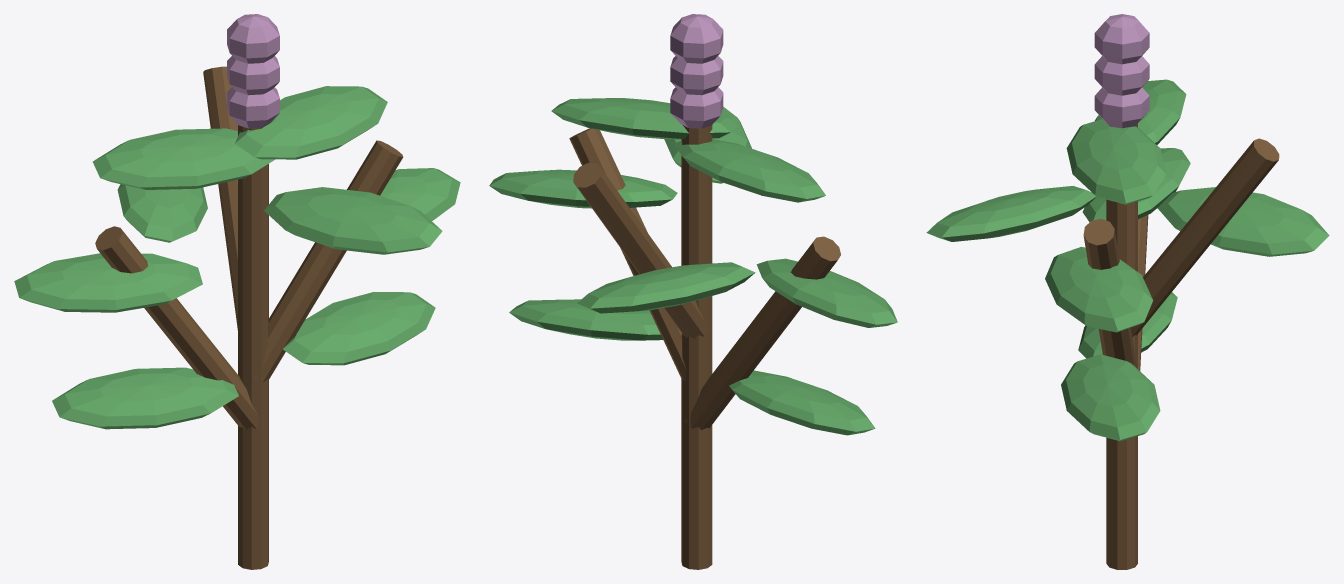
Rendered from tulsi.glb.
The picture shows the model from 3 angles, left to right: view 1: azimuth 30°, elevation 25°; view 2: azimuth 150°, elevation 25°; view 3: azimuth 270°, elevation 25°; orthographic projection.
Parts seen in each view (by area): view 1: Tulsi_Stem_0, Tulsi_Leaf_0, Tulsi_Leaf_5, Tulsi_Leaf_2, Tulsi_Leaf_6, Tulsi_Leaf_1, Tulsi_Leaf_7, Tulsi_Stem_2, Tulsi_Stem_1, Tulsi_Leaf_4, Tulsi_Stem_3, Tulsi_Leaf_3 (+3 smaller); view 2: Tulsi_Stem_0, Tulsi_Stem_1, Tulsi_Leaf_4, Tulsi_Leaf_6, Tulsi_Leaf_0, Tulsi_Stem_3, Tulsi_Leaf_2, Tulsi_Leaf_7, Tulsi_Leaf_1, Tulsi_Leaf_3, Tulsi_Stem_2, Tulsi_Flower_2 (+3 smaller); view 3: Tulsi_Stem_3, Tulsi_Leaf_1, Tulsi_Leaf_4, Tulsi_Leaf_7, Tulsi_Leaf_3, Tulsi_Stem_0, Tulsi_Leaf_5, Tulsi_Stem_2, Tulsi_Flower_2, Tulsi_Leaf_6, Tulsi_Leaf_2, Tulsi_Flower_0 (+3 smaller).
Boxes of the visible parts, x1=… form: Tulsi_Stem_0: x1=238, y1=125, x2=268, y2=569; Tulsi_Leaf_0: x1=52, y1=367, x2=238, y2=429; Tulsi_Leaf_5: x1=264, y1=187, x2=442, y2=254; Tulsi_Leaf_2: x1=14, y1=253, x2=202, y2=312; Tulsi_Leaf_6: x1=92, y1=128, x2=275, y2=189; Tulsi_Leaf_1: x1=283, y1=292, x2=435, y2=365; Tulsi_Leaf_7: x1=235, y1=86, x2=387, y2=159; Tulsi_Stem_2: x1=254, y1=140, x2=403, y2=382; Tulsi_Stem_1: x1=95, y1=226, x2=263, y2=429; Tulsi_Leaf_4: x1=117, y1=184, x2=207, y2=242; Tulsi_Stem_3: x1=203, y1=66, x2=268, y2=329; Tulsi_Leaf_3: x1=380, y1=168, x2=460, y2=220; Tulsi_Stem_0: x1=681, y1=125, x2=712, y2=569; Tulsi_Stem_1: x1=684, y1=236, x2=840, y2=429; Tulsi_Leaf_4: x1=577, y1=262, x2=755, y2=313; Tulsi_Leaf_6: x1=673, y1=139, x2=825, y2=202; Tulsi_Leaf_0: x1=729, y1=370, x2=875, y2=435; Tulsi_Stem_3: x1=573, y1=162, x2=710, y2=338; Tulsi_Leaf_2: x1=756, y1=258, x2=897, y2=327; Tulsi_Leaf_7: x1=551, y1=98, x2=737, y2=139; Tulsi_Leaf_1: x1=509, y1=299, x2=662, y2=340; Tulsi_Leaf_3: x1=489, y1=169, x2=677, y2=208; Tulsi_Stem_2: x1=569, y1=128, x2=690, y2=380; Tulsi_Flower_2: x1=670, y1=14, x2=723, y2=63; Tulsi_Stem_3: x1=1130, y1=138, x2=1279, y2=336; Tulsi_Leaf_1: x1=1061, y1=354, x2=1160, y2=441; Tulsi_Leaf_4: x1=1157, y1=187, x2=1329, y2=256; Tulsi_Leaf_7: x1=1066, y1=119, x2=1165, y2=204; Tulsi_Leaf_3: x1=1045, y1=246, x2=1153, y2=332; Tulsi_Stem_0: x1=1106, y1=123, x2=1137, y2=569; Tulsi_Leaf_5: x1=926, y1=186, x2=1096, y2=241; Tulsi_Stem_2: x1=1083, y1=218, x2=1136, y2=367; Tulsi_Flower_2: x1=1094, y1=14, x2=1149, y2=64; Tulsi_Leaf_6: x1=1095, y1=79, x2=1186, y2=144; Tulsi_Leaf_2: x1=1082, y1=148, x2=1190, y2=222; Tulsi_Flower_0: x1=1094, y1=87, x2=1149, y2=128.
Size of the model in its own units: 1.69 by 2.09 by 1.4.
